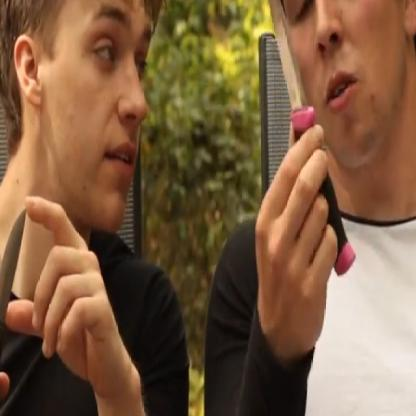knife: (250, 0, 338, 213), (0, 193, 38, 406)
